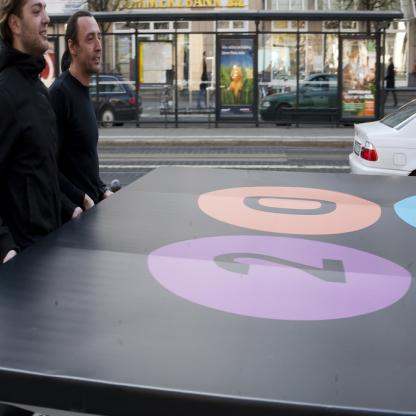Car: (349, 99, 416, 177)
